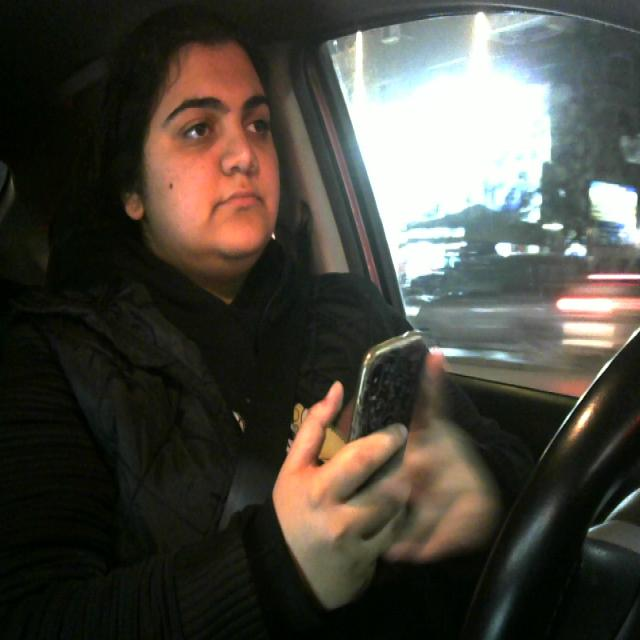mobile use: (346, 324, 423, 523)
